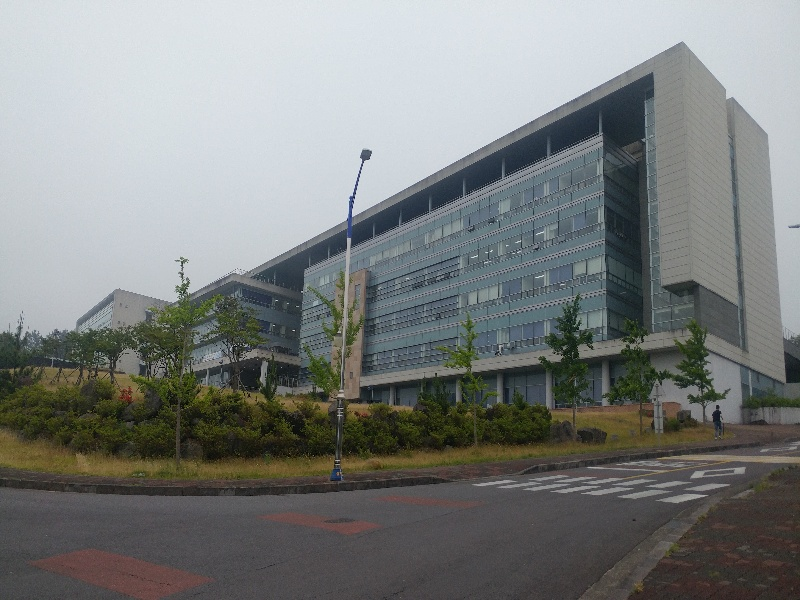College of Marine Science: (73, 294, 164, 375)
Engineering College Building 4: (191, 85, 781, 390), (210, 141, 769, 376)
